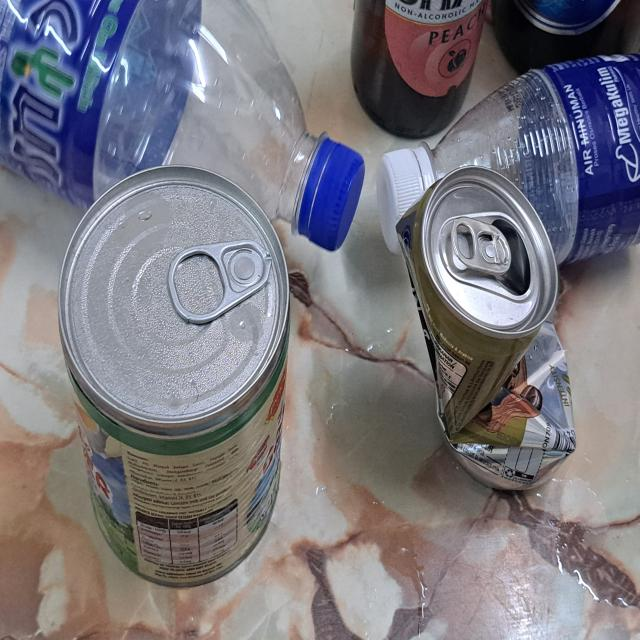can: (57, 161, 292, 589), (395, 165, 578, 494)
glass bottle: (348, 0, 488, 140)
plastic bottle: (0, 0, 310, 233), (428, 54, 640, 267)
plastic bottle cap: (302, 133, 366, 254), (377, 146, 426, 254)
pop tab: (169, 242, 271, 323), (452, 214, 512, 275)
